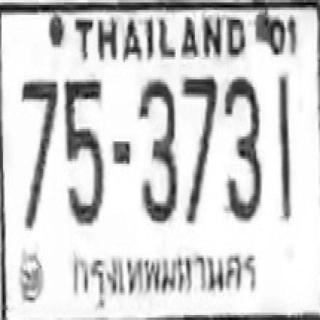N01: (277, 73, 290, 219)
N03: (138, 77, 176, 221), (223, 74, 260, 218)
N05: (63, 76, 103, 224)
N07: (20, 77, 57, 228), (181, 74, 217, 221), (181, 73, 217, 180)
P04: (65, 243, 268, 312)
